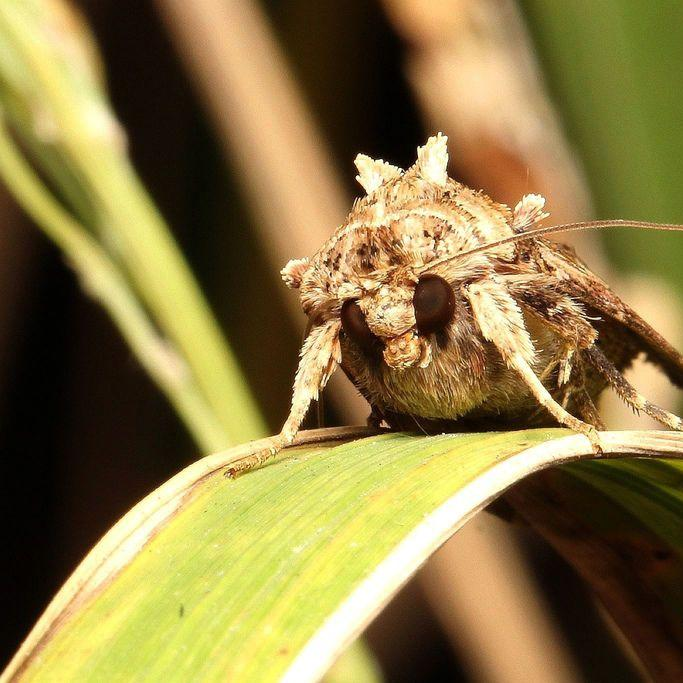Spodoptera litura: (224, 131, 683, 479)
